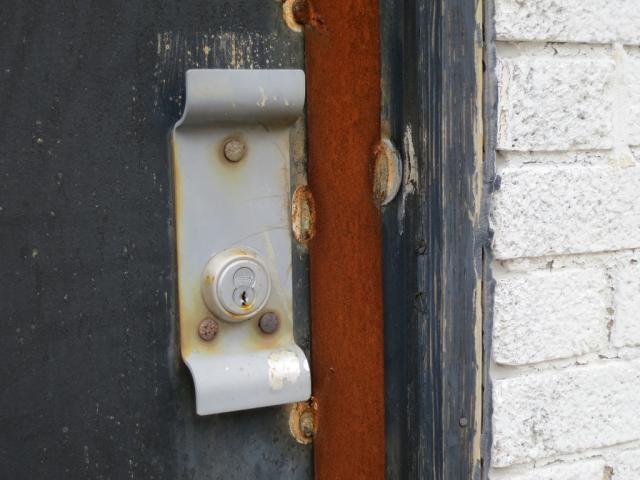Door-handle: (169, 60, 314, 420)
